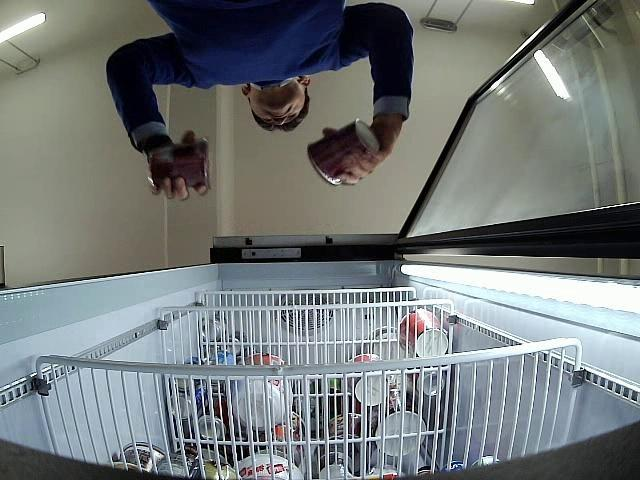06_nuguri_S: (307, 118, 381, 186), (150, 137, 211, 188)
